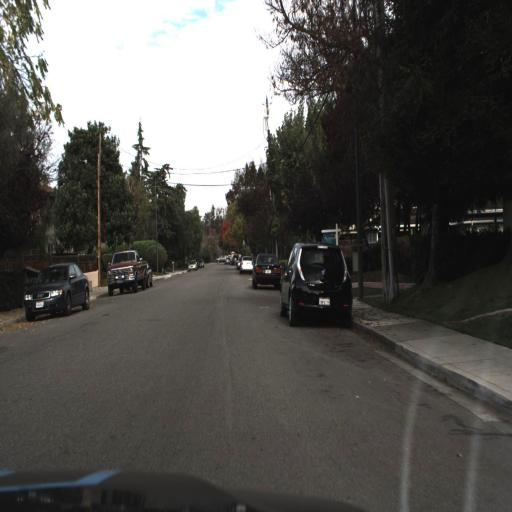car: (278, 230, 360, 336), (20, 254, 96, 324), (102, 242, 142, 300), (248, 246, 282, 297), (236, 251, 254, 278)
